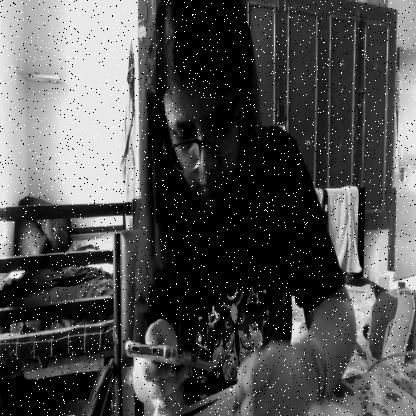Normal: (156, 0, 250, 223)
